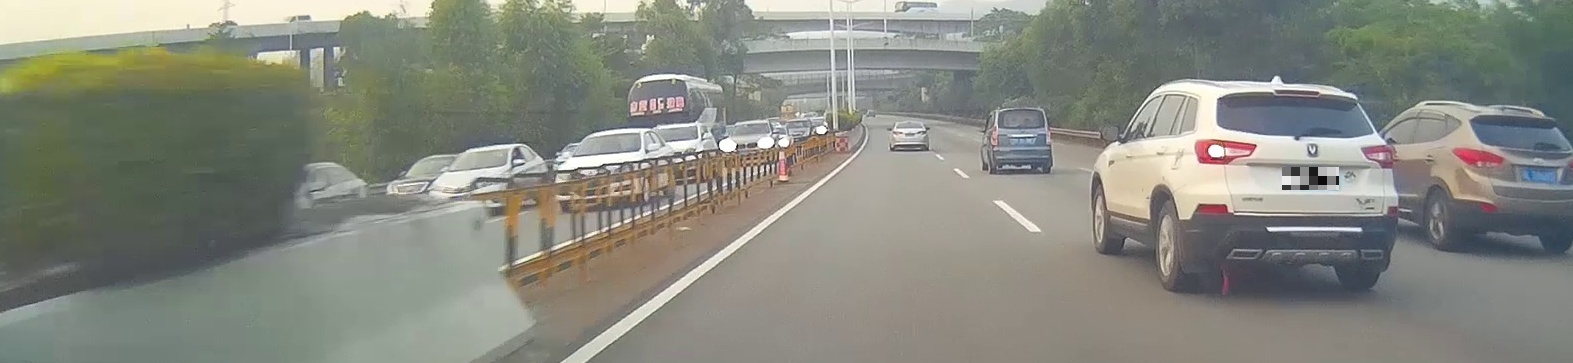L_light: (1194, 138, 1257, 165), (991, 125, 998, 145), (892, 131, 902, 135)
R_light: (1361, 144, 1394, 169), (1045, 127, 1051, 144), (917, 131, 927, 134)
T_light: (1274, 89, 1319, 97), (1018, 124, 1029, 128), (907, 123, 913, 124)
day-left: (1191, 82, 1399, 291)
day-no: (989, 107, 1053, 173), (889, 121, 930, 151)
plate_1: (1282, 167, 1339, 190)
